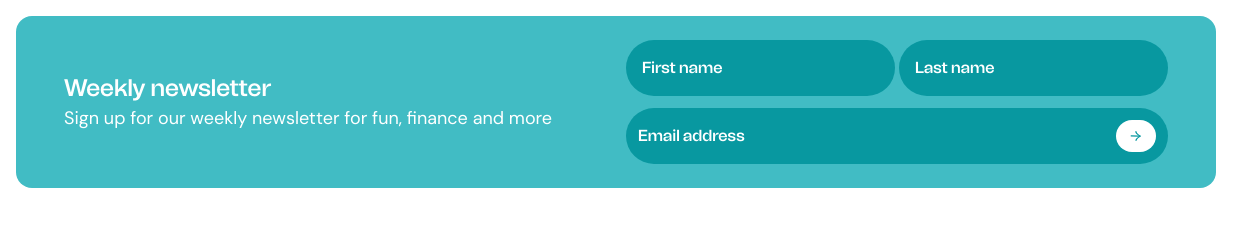
Test: Newsletter Form › shows success message on valid submission
Type "Princess" into the field with test id "first-name-input" at coordinates (760, 68), box [626,40,895,96]
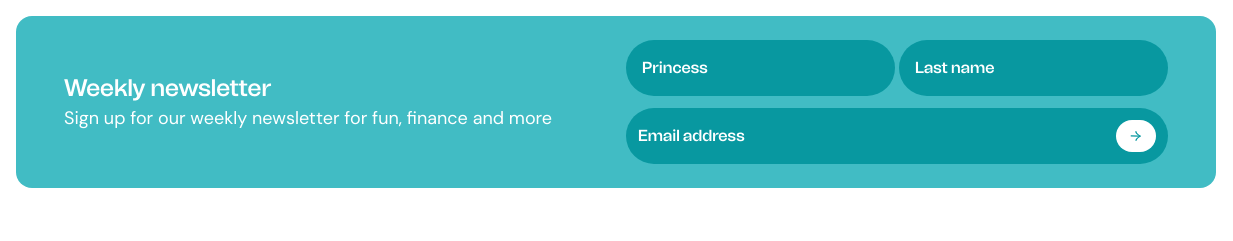
Type "Okoli" into the field with test id "last-name-input" at coordinates (1034, 68), box [899,40,1168,96]
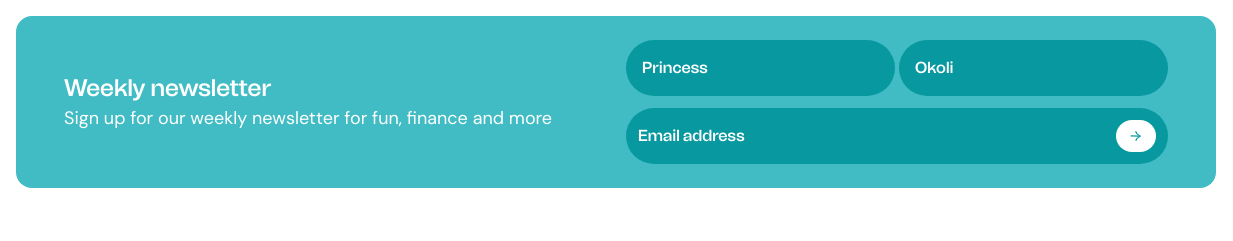
Type "princess@okoli.com" into the field with test id "email-input" at coordinates (871, 136), box [638,124,1104,148]
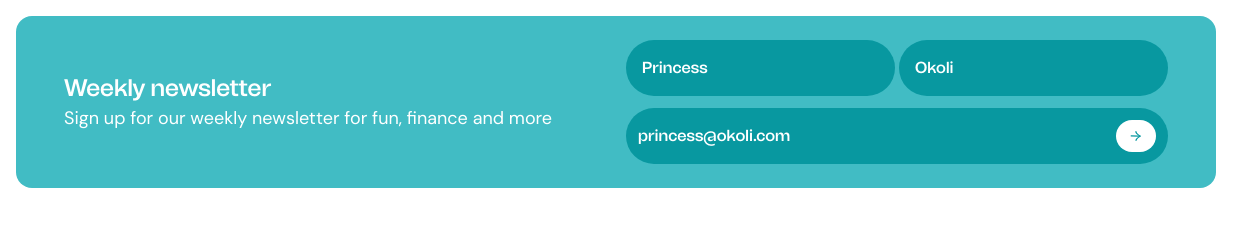
Click the button with test id "submit-button" at coordinates (1136, 136), box [1116,120,1156,152]
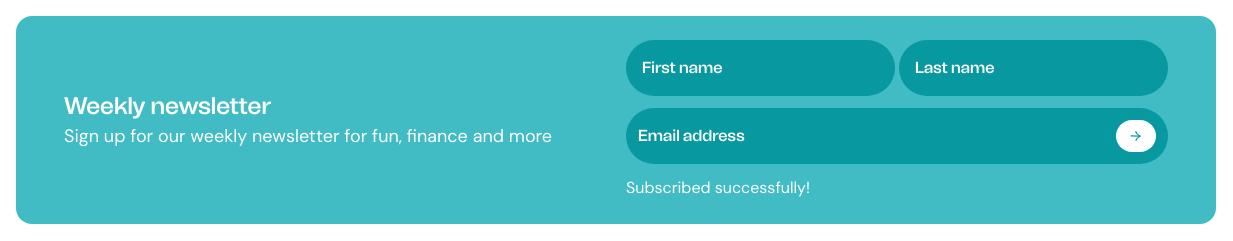
expect the text with test id "success-message" reads "Subscribed successfully!": met, box [626,177,810,198]
